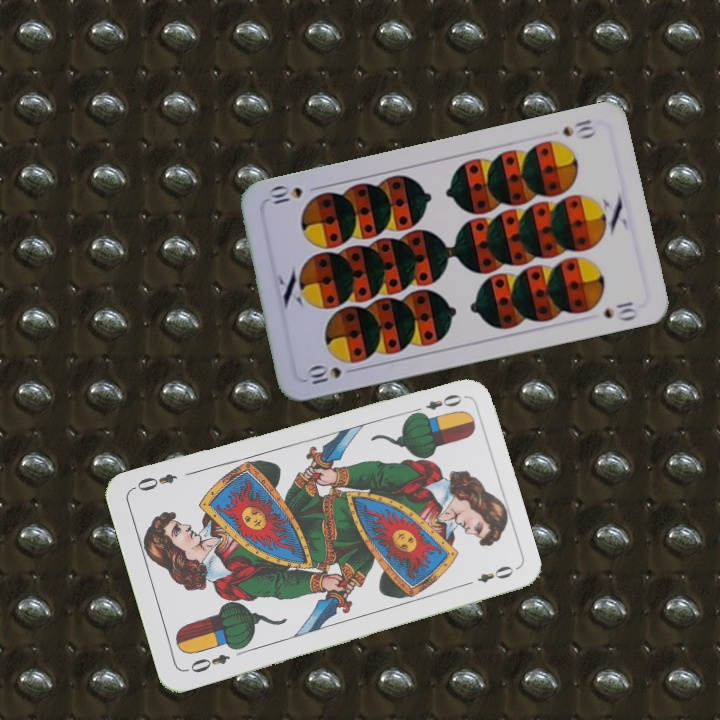EO: (407, 390, 465, 418), (181, 650, 233, 676)
S10: (302, 362, 360, 387), (558, 115, 599, 141)
